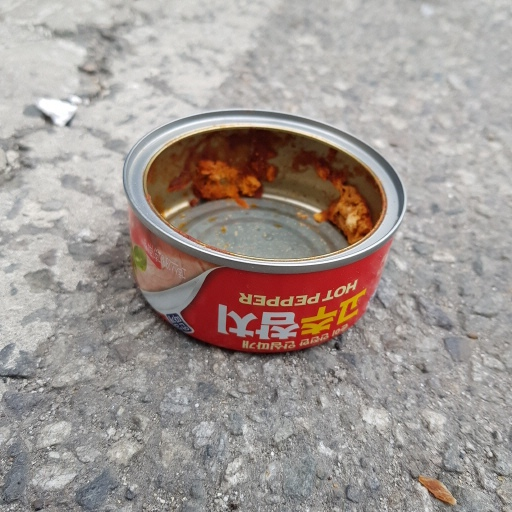Metal_1: (121, 108, 408, 352)
